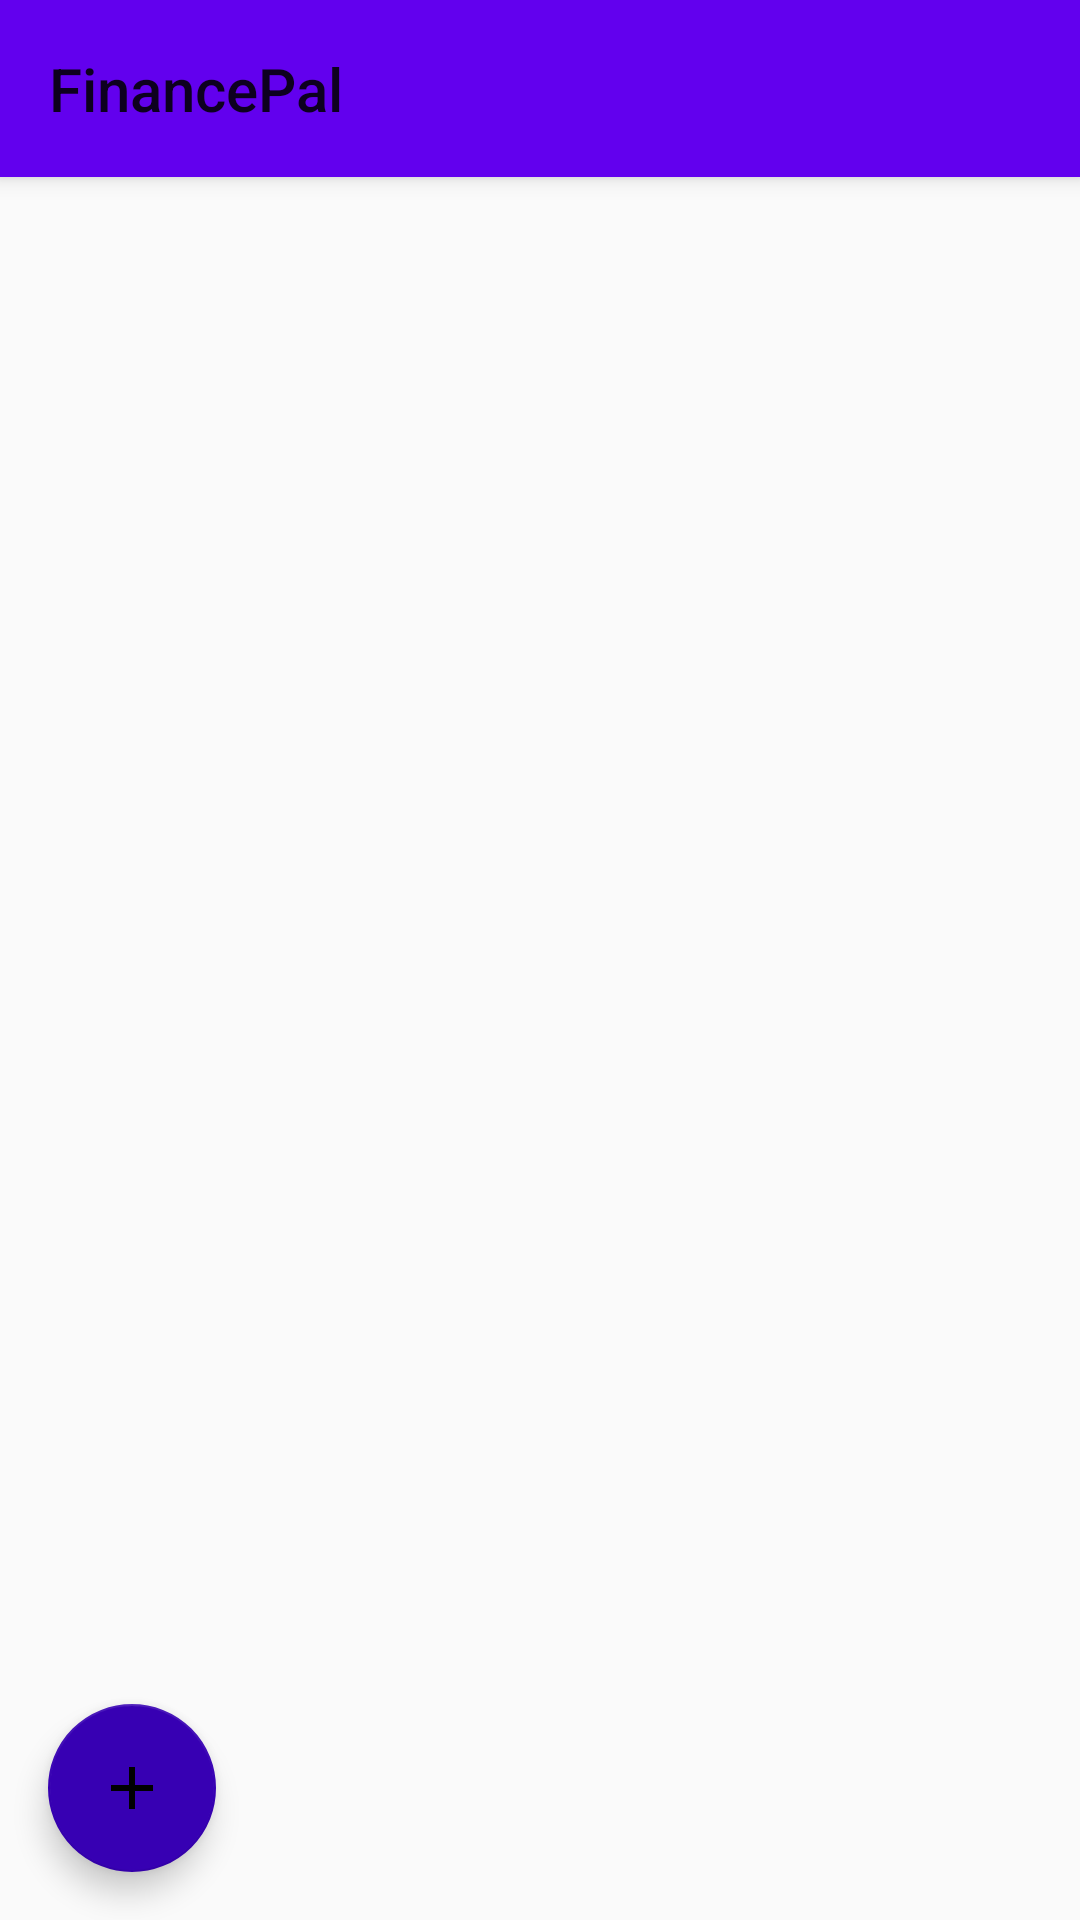

Named icons in this screenshot (1080px×1920px) and their centers, (x=x, y=y):
add: (x=132, y=1788)
